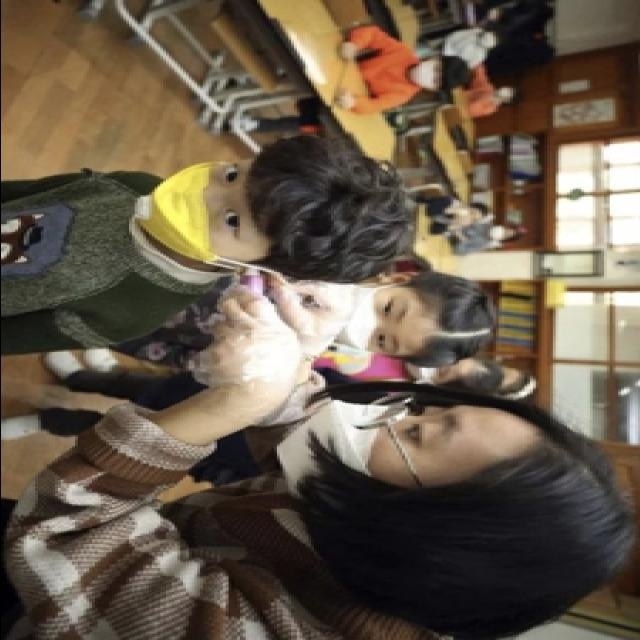with_mask: (273, 400, 472, 490), (134, 160, 278, 272), (330, 283, 424, 360), (404, 360, 469, 389), (404, 58, 452, 92), (475, 32, 503, 50), (486, 228, 512, 242), (495, 86, 515, 100)
